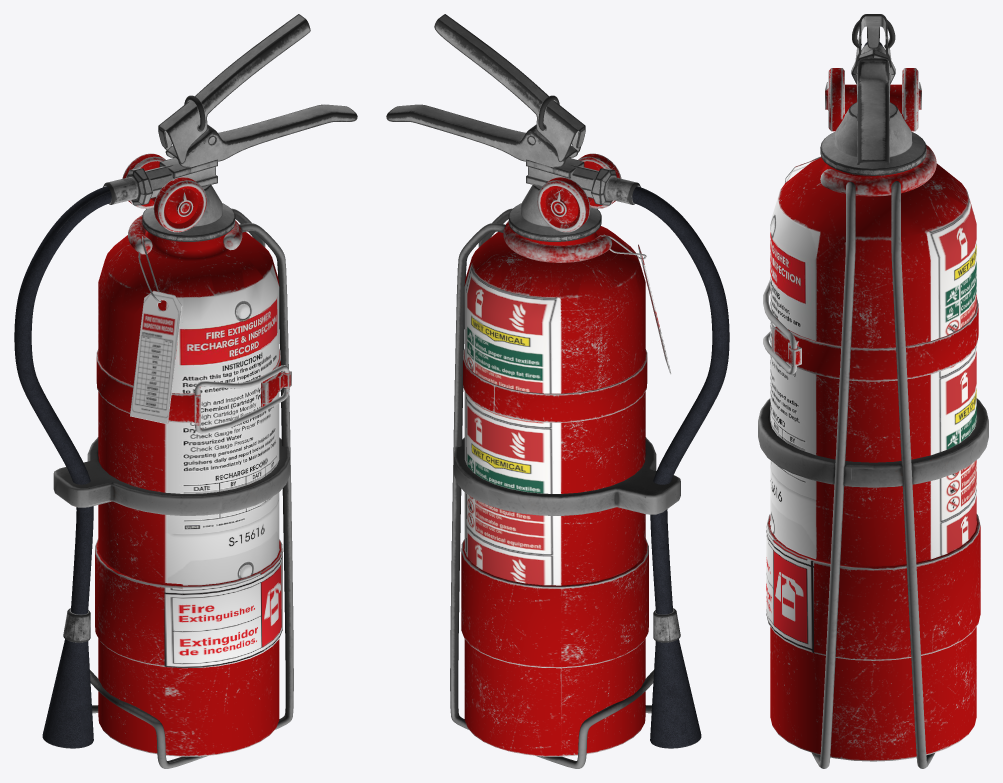
The model's file is fire_extinguisher.fbx.
3 views of the same model, side by side, from view 1: azimuth 30°, elevation 25°; view 2: azimuth 150°, elevation 25°; view 3: azimuth 270°, elevation 25° (orthographic). The views are drawn at different scales.
Parts seen in each view (by area): view 1: obj3, obj2, obj5, obj1, obj4; view 2: obj3, obj5, obj2, obj1; view 3: obj3, obj5, obj2, obj1.
Boxes of the visible parts, left/top/right/bottom form: obj3: left=95, top=153, right=282, bottom=756; obj2: left=42, top=14, right=357, bottom=748; obj5: left=53, top=208, right=293, bottom=768; obj1: left=14, top=165, right=173, bottom=614; obj4: left=130, top=290, right=182, bottom=424; obj3: left=461, top=153, right=648, bottom=756; obj5: left=450, top=208, right=680, bottom=768; obj2: left=386, top=14, right=701, bottom=748; obj1: left=570, top=165, right=729, bottom=614; obj3: left=766, top=68, right=980, bottom=761; obj5: left=758, top=144, right=988, bottom=768; obj2: left=820, top=14, right=926, bottom=175; obj1: left=851, top=42, right=895, bottom=90.
Size of the model in its own units: 428 by 832 by 224.
3 materials, 3 textured.
